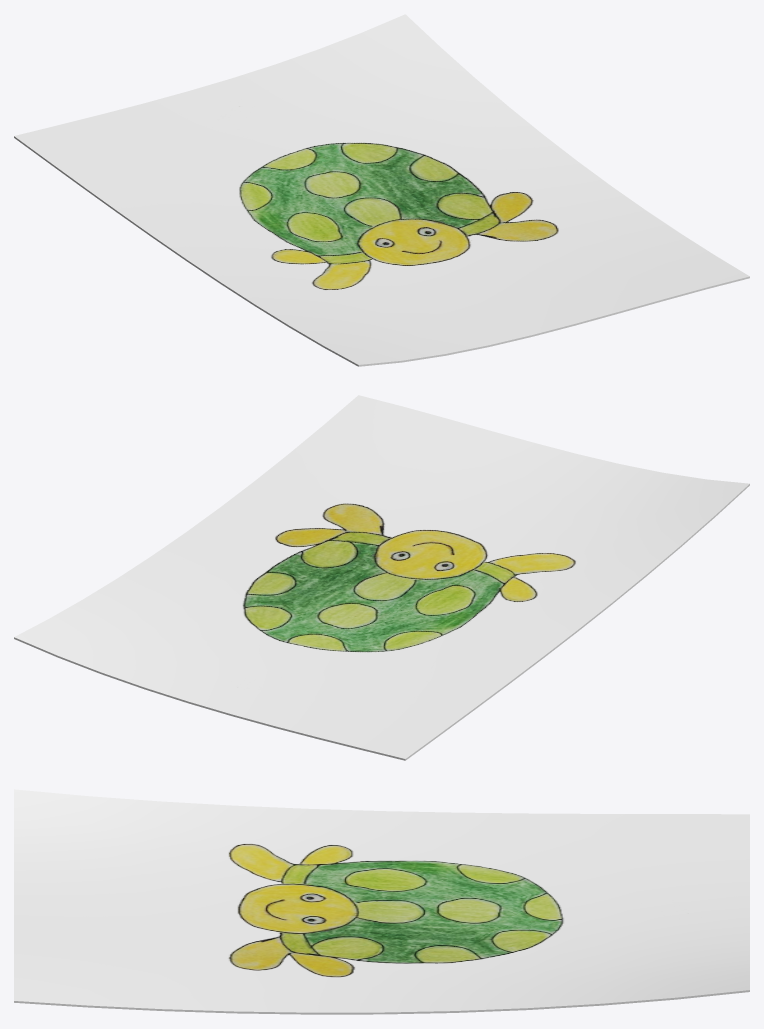
Rendered from Paper 2.FBX.
3 views of the same model, one above another, from view 1: azimuth 30°, elevation 25°; view 2: azimuth 150°, elevation 25°; view 3: azimuth 270°, elevation 25° (orthographic). The views are drawn at different scales.
Parts seen in each view (by area): view 1: Paper 2; view 2: Paper 2; view 3: Paper 2.
Boxes of the visible parts, x1,y1,x2,y2 form: Paper 2: [14, 14, 749, 366]; Paper 2: [14, 395, 749, 760]; Paper 2: [14, 789, 749, 1014].
Bounding box in the file's own units: 21.15 × 1.45 × 32.23.
Materials: 1 (1 with a texture image).
